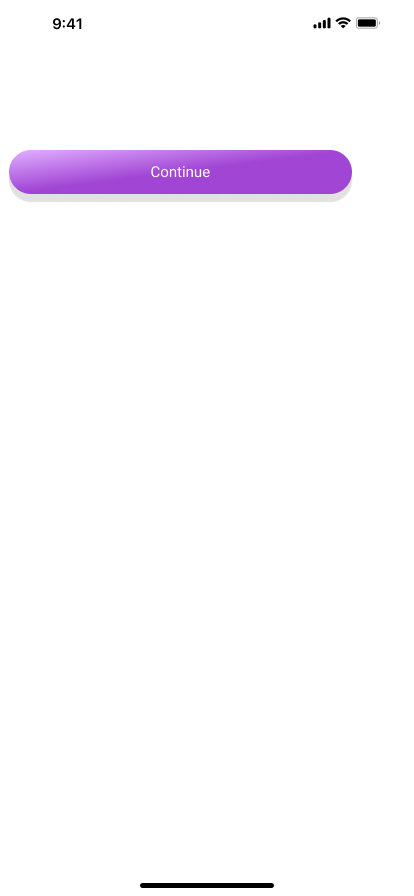Buttons: (8, 150, 353, 203)
Home Indicator: (0, 862, 414, 896)
Status Bar: (0, 0, 414, 44)
